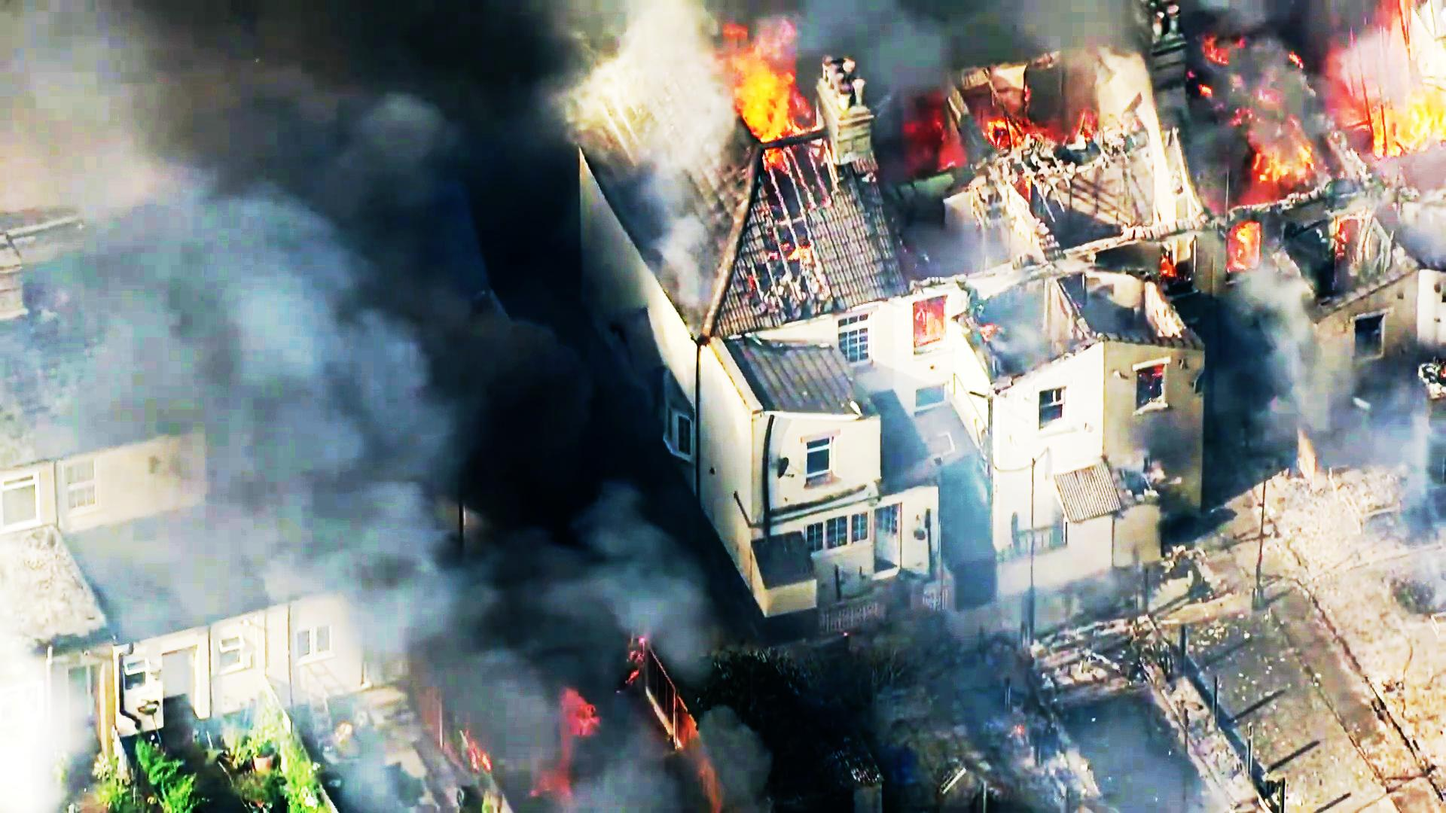fire: (697, 23, 829, 177), (1337, 0, 1446, 186), (1247, 106, 1317, 193)
smoke: (61, 198, 516, 561), (0, 0, 418, 247), (435, 463, 699, 804)
